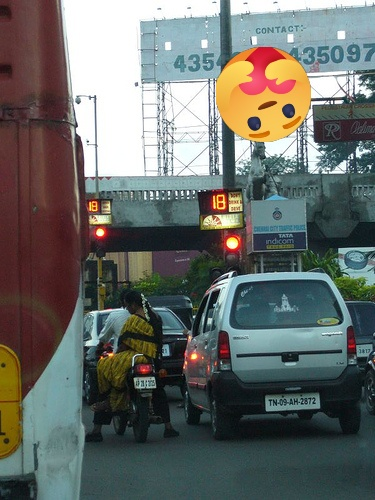care: (216, 47, 311, 142)
